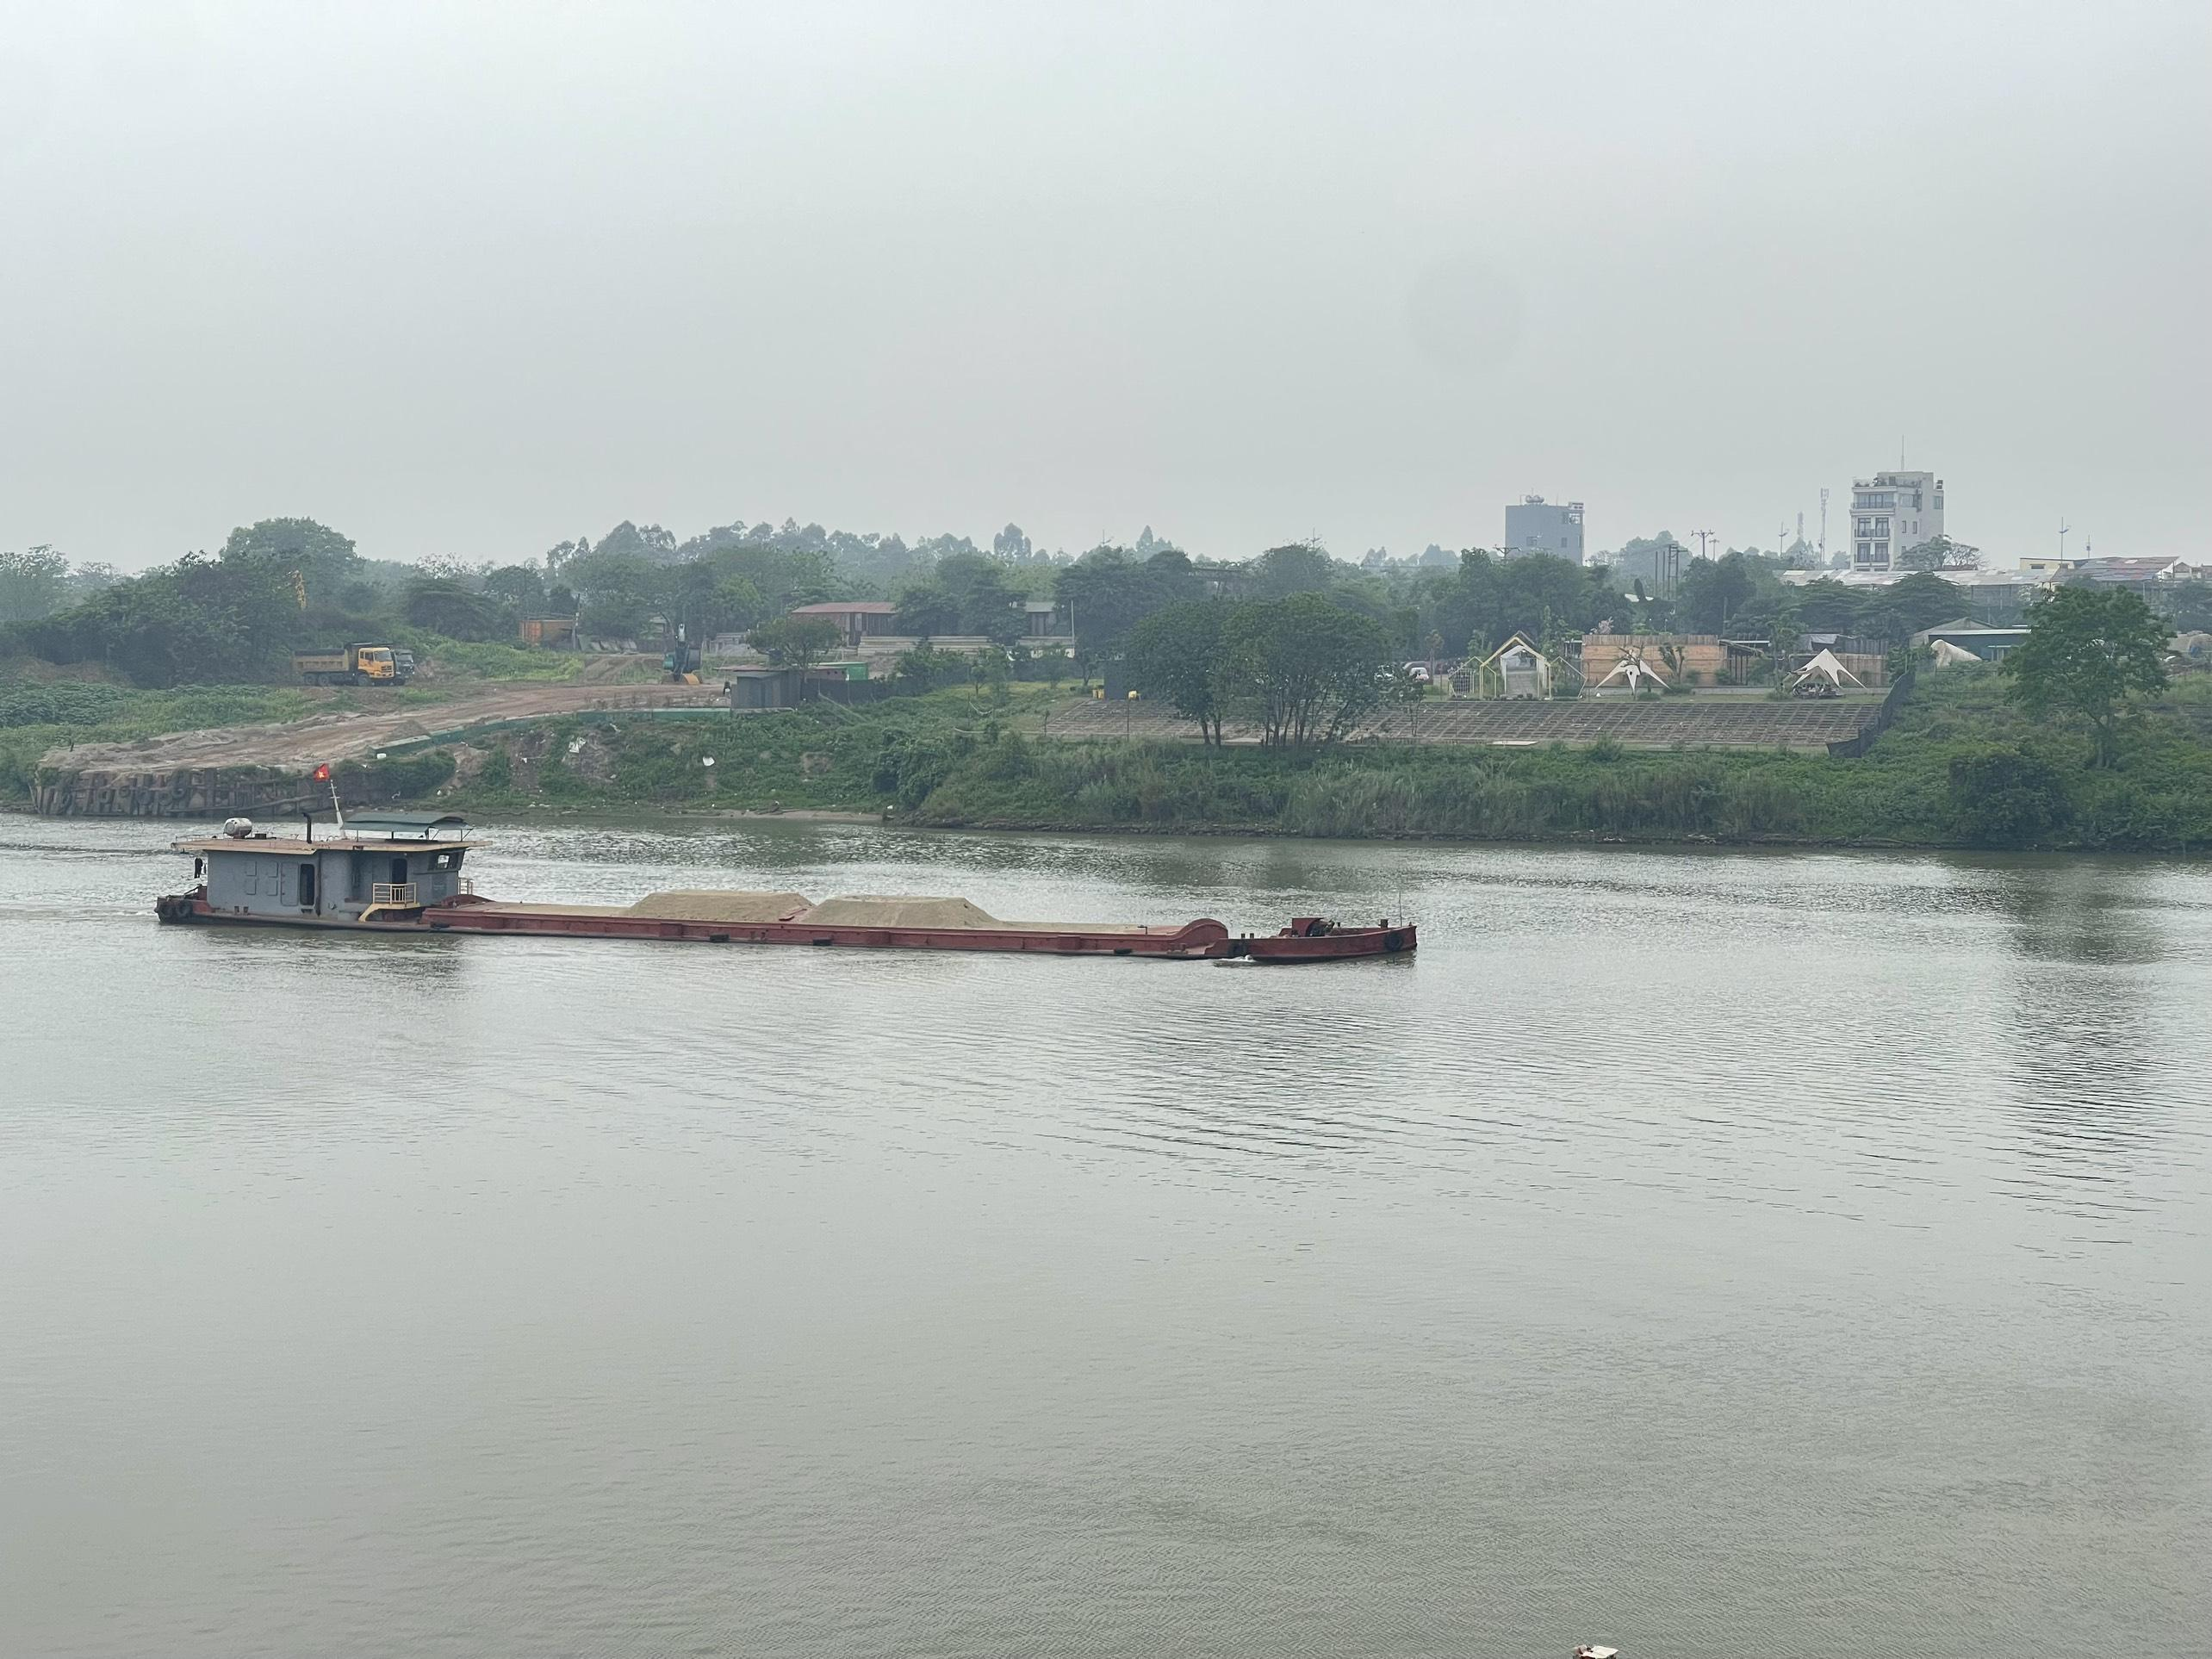Ship: (122, 826, 1437, 988)
